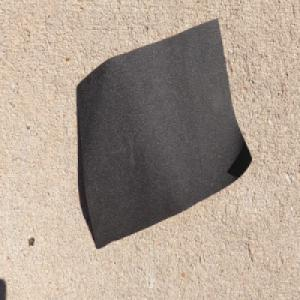PaintChip: (75, 20, 249, 251)
